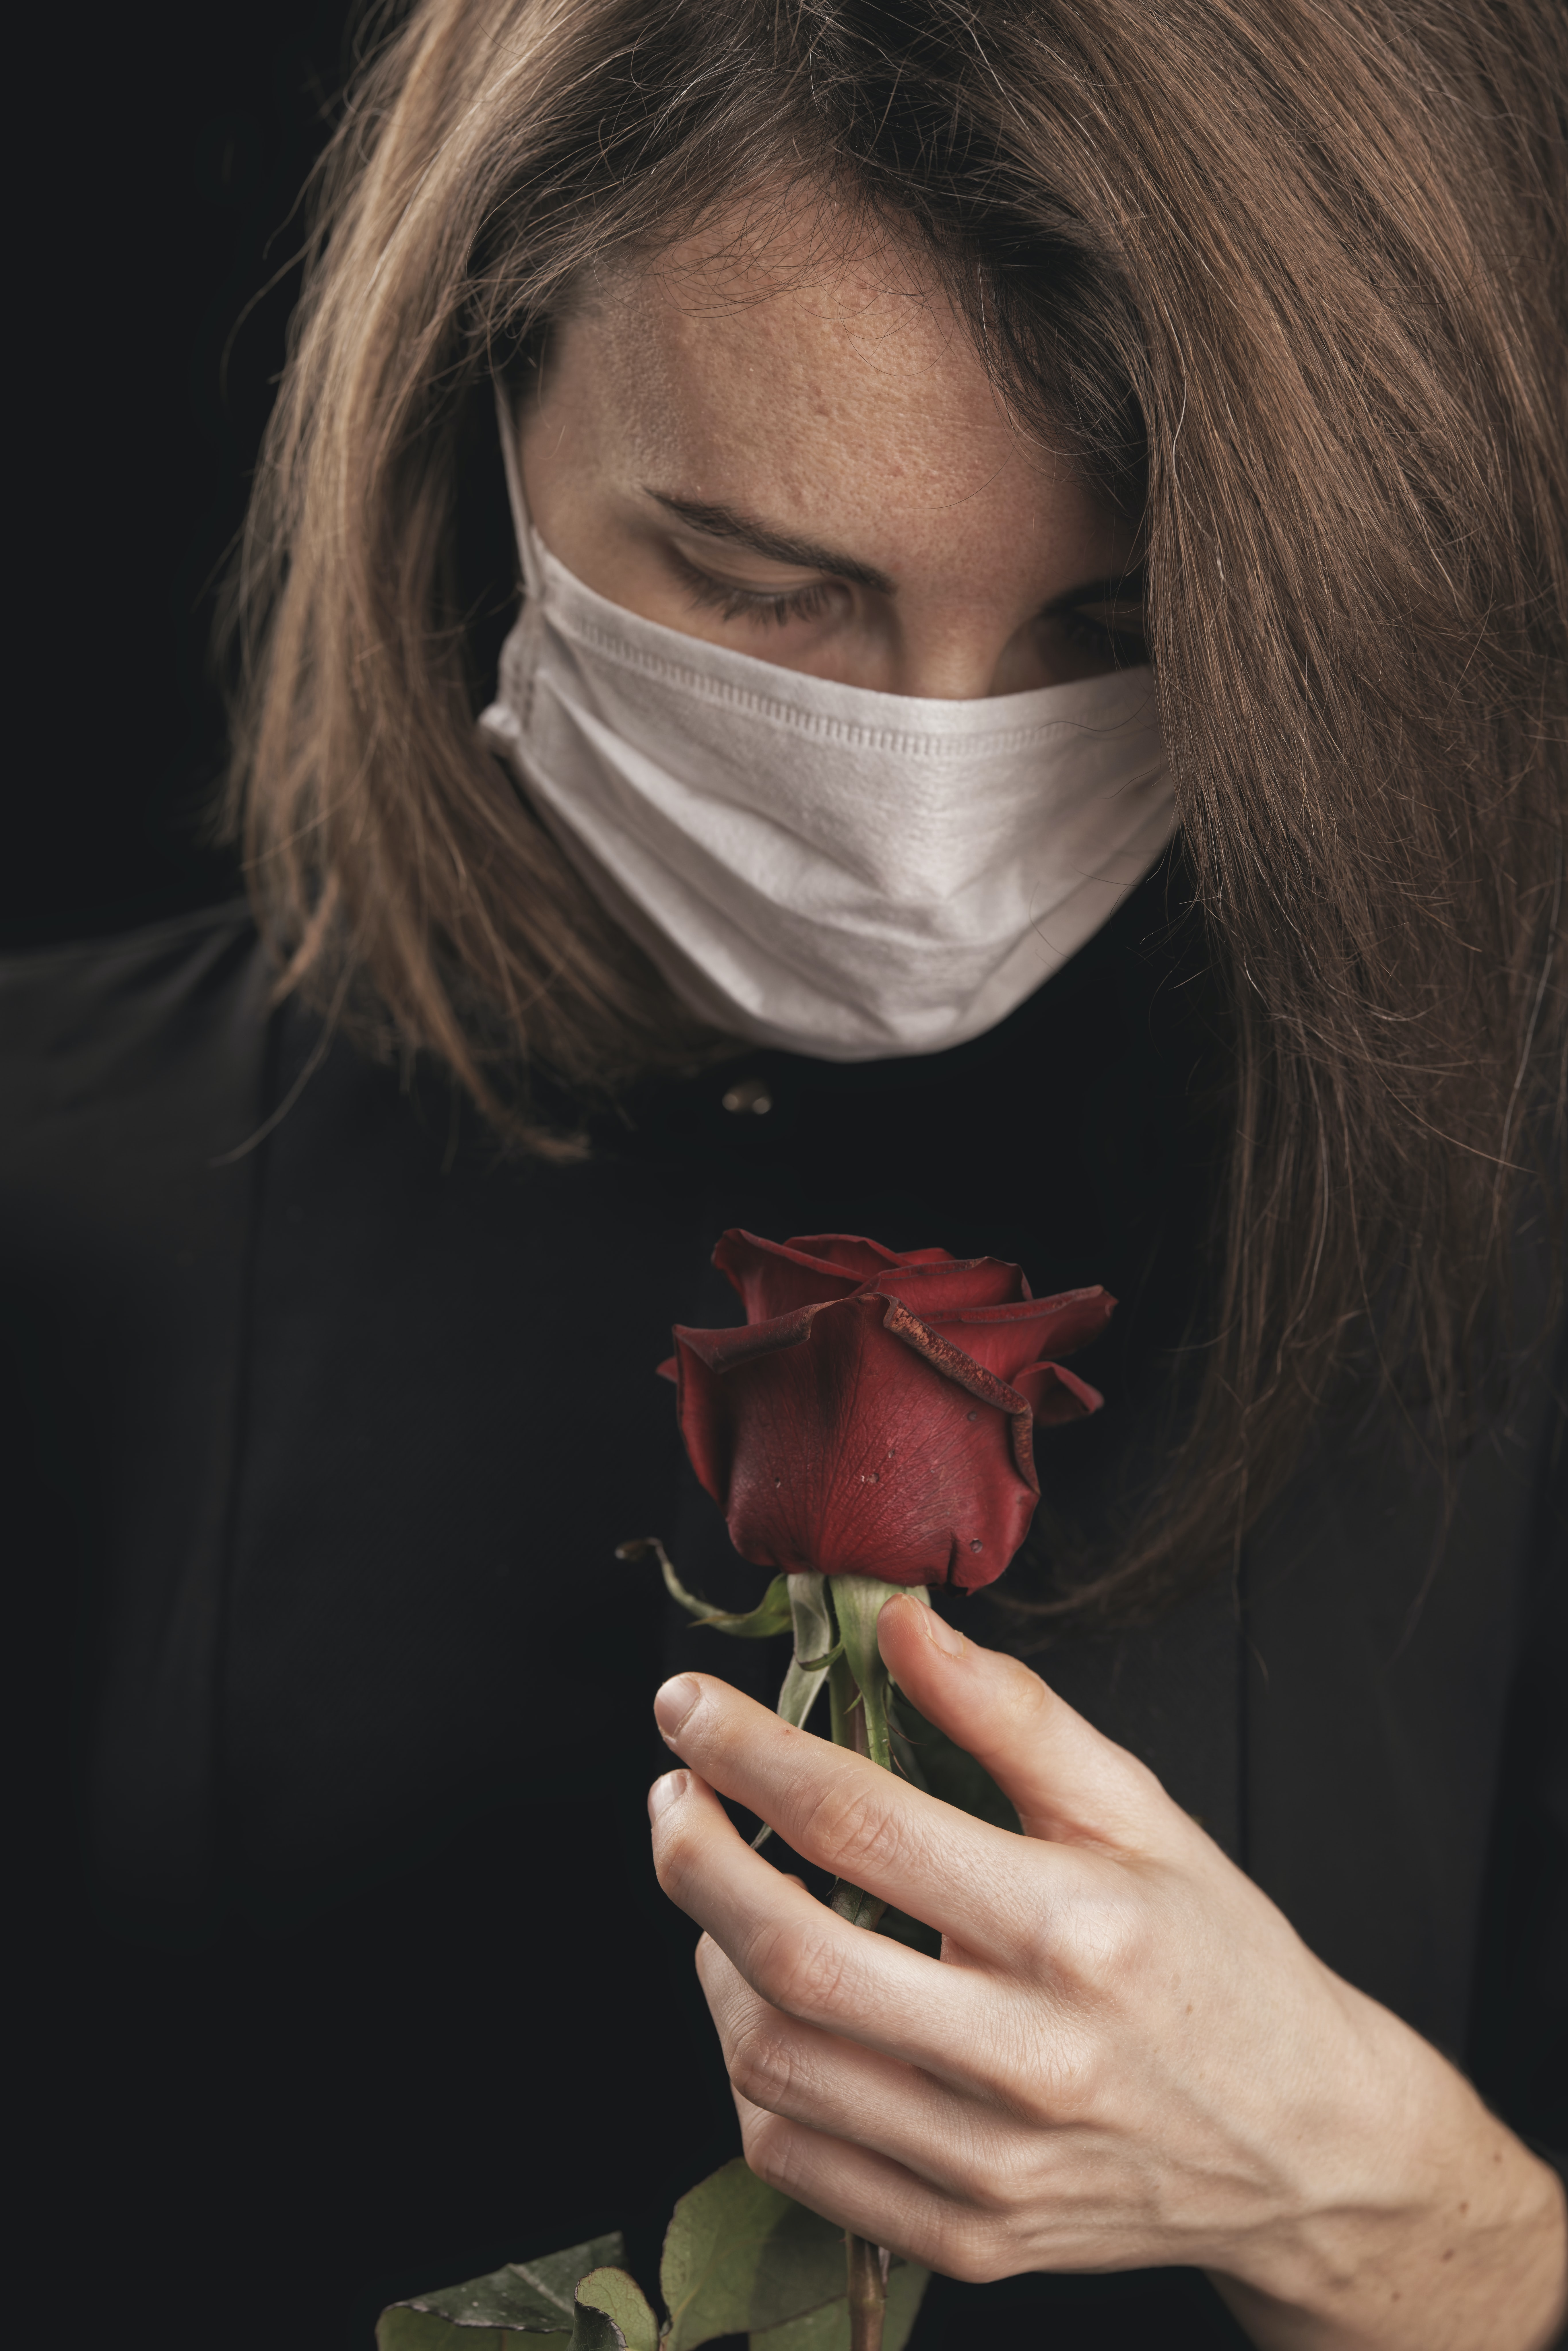mask: (466, 561, 1175, 1083)
person: (20, 34, 1568, 2351)
